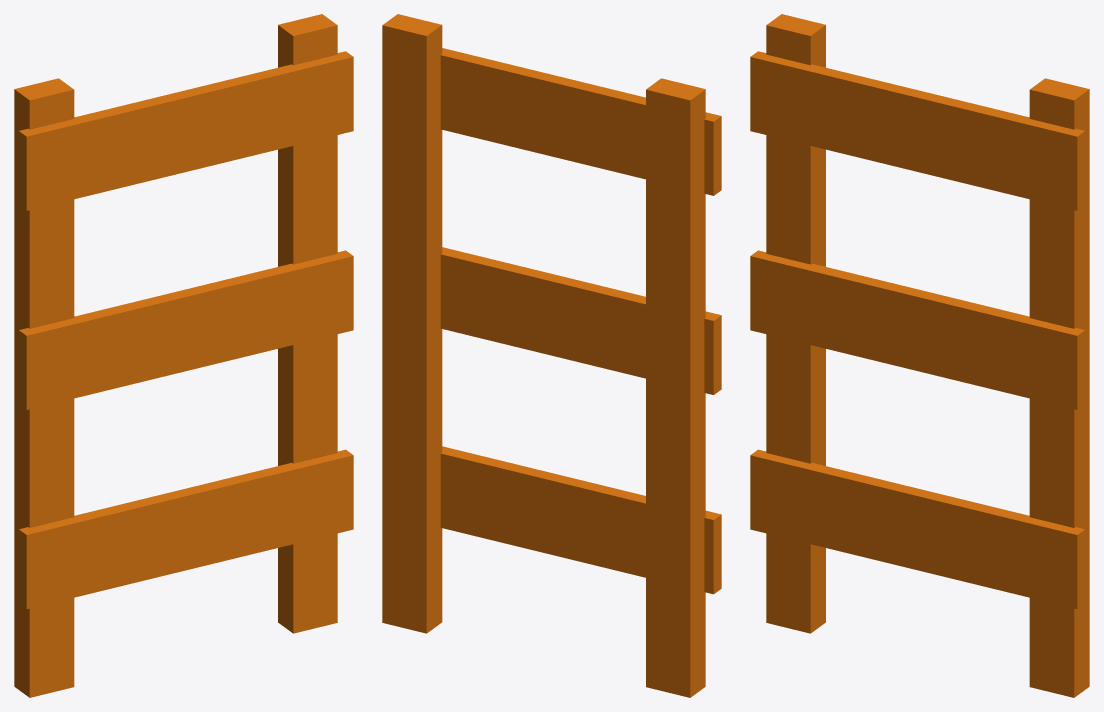
Rendered from Ladder.fbx.
3 views of the same model, side by side, from view 1: azimuth 30°, elevation 25°; view 2: azimuth 150°, elevation 25°; view 3: azimuth 330°, elevation 25° (orthographic).
Visible parts, largest first — view 1: Ladder; view 2: Ladder; view 3: Ladder.
Part boxes in pixels (left/top/right/bottom): Ladder: left=14, top=14, right=353, bottom=697; Ladder: left=382, top=14, right=721, bottom=697; Ladder: left=750, top=14, right=1089, bottom=697.
Bounding box in the file's own units: 3.26 × 0.3769 × 5.69.
